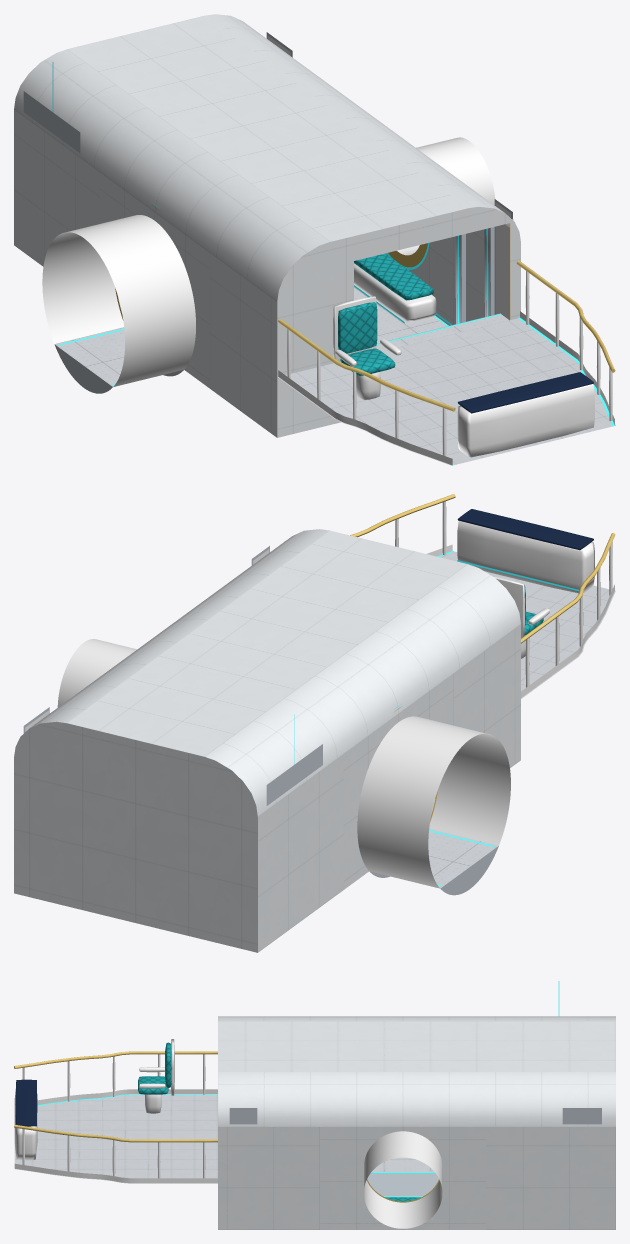
Rendered from starpod_interior_v7.glb.
3 renders of one model, top to bottom at view 1: azimuth 30°, elevation 25°; view 2: azimuth 150°, elevation 25°; view 3: azimuth 270°, elevation 25°, orthographic. The views are drawn at different scales.
Size of the model in its own units: 7.28 by 4.2 by 13.01.
Materials: 10 (10 with a texture image).
